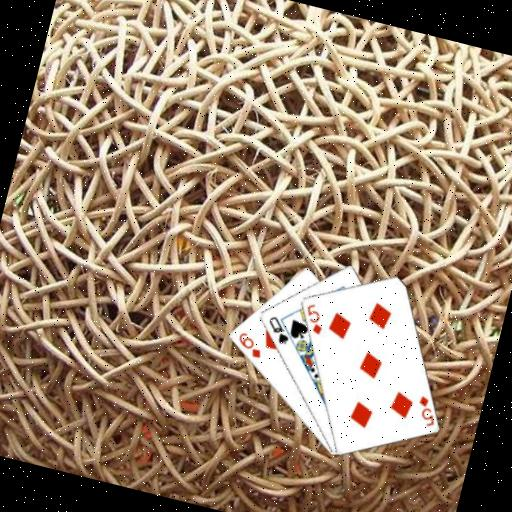5D: (411, 391, 442, 429), (298, 299, 329, 336)
6D: (231, 328, 267, 361)
QS: (261, 312, 295, 347)
